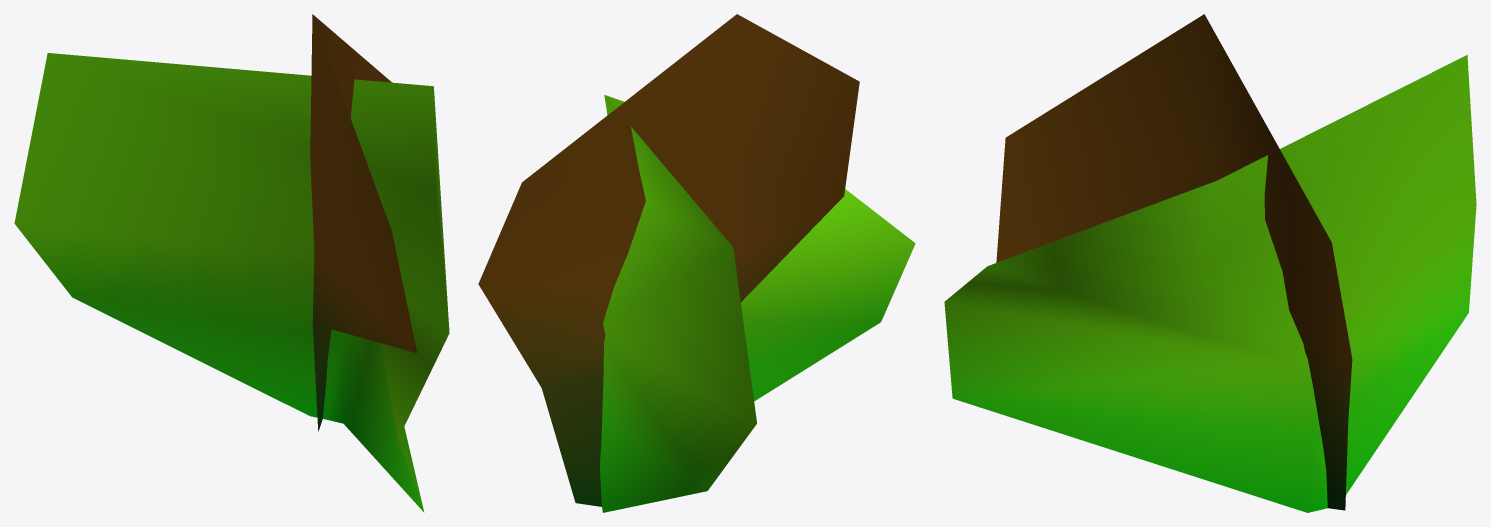
Rendered from Var1Hi3.fbx.
The picture shows the model from 3 angles, left to right: view 1: azimuth 30°, elevation 25°; view 2: azimuth 150°, elevation 25°; view 3: azimuth 270°, elevation 25°; orthographic projection. The views are drawn at different scales.
Parts seen in each view (by area): view 1: bend1; view 2: bend1; view 3: bend1.
Boxes of the visible parts, x1,y1,x2,y2 form: bend1: [14, 14, 449, 512]; bend1: [478, 14, 915, 512]; bend1: [944, 14, 1476, 512].
Size of the model in its own units: 1.04 by 1.37 by 1.42.
